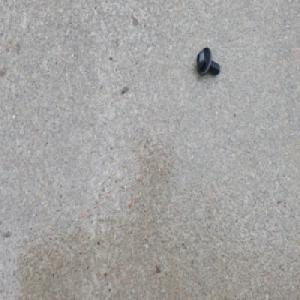BoltWasher: (193, 44, 218, 76)
